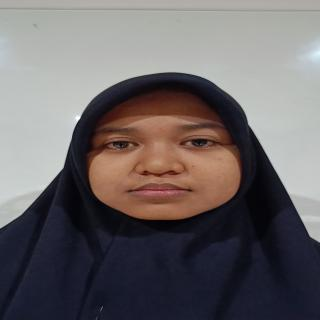Netral: (80, 84, 248, 225)
